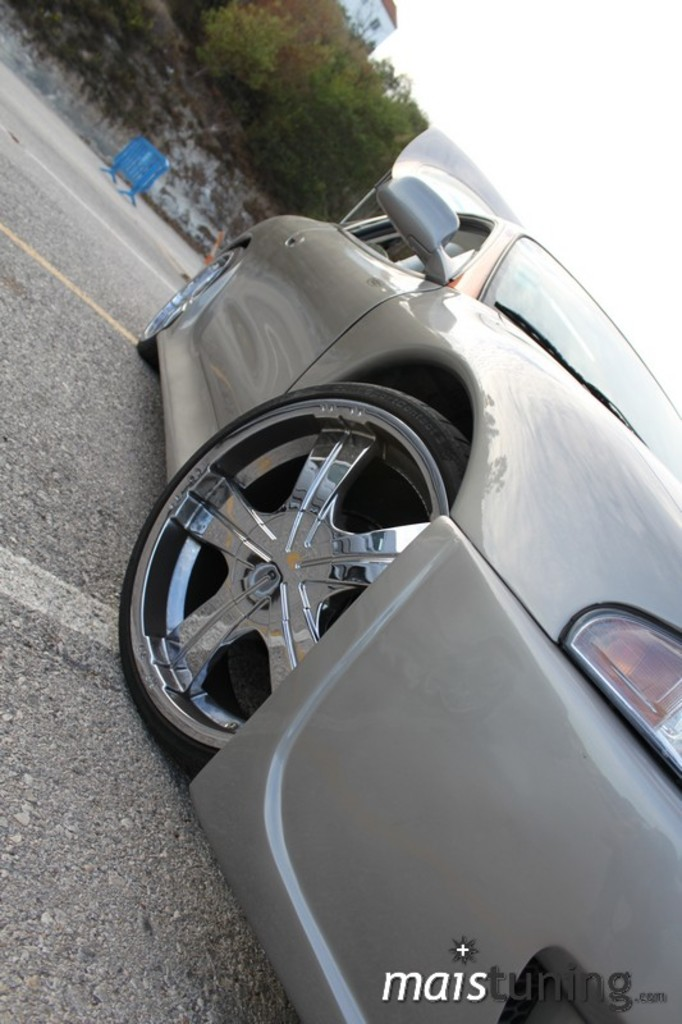Car: (85, 81, 664, 1024)
